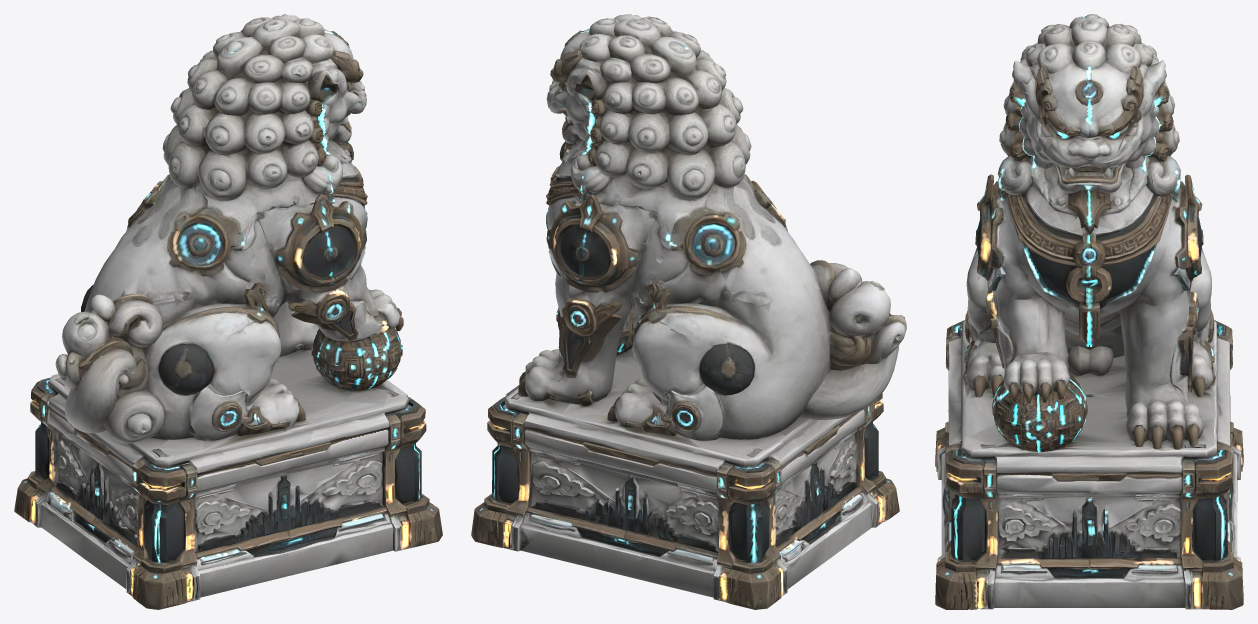
File: guardian_lion.glb
3 views of the same model, side by side, from view 1: azimuth 30°, elevation 25°; view 2: azimuth 150°, elevation 25°; view 3: azimuth 270°, elevation 25° (orthographic). The views are drawn at different scales.
Parts seen in each view (by area): view 1: guardian_lion; view 2: guardian_lion; view 3: guardian_lion.
Part boxes in pixels (bbox=[...]): guardian_lion: bbox=[14, 14, 442, 609]; guardian_lion: bbox=[471, 14, 906, 609]; guardian_lion: bbox=[935, 14, 1243, 609].
Bounding box in the file's own units: 2.92 × 4 × 2.09.
Materials: 1 (1 with a texture image).
